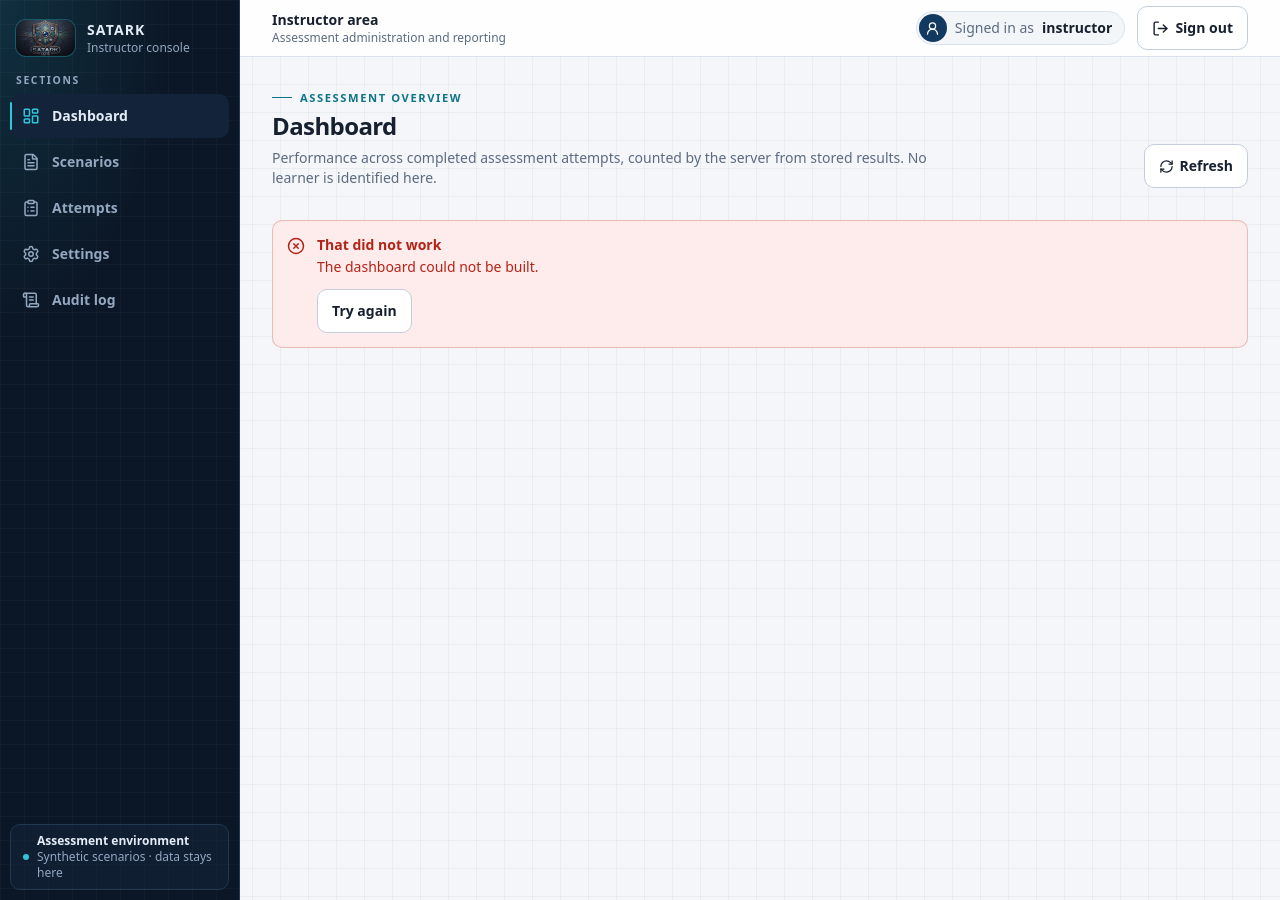
Test: little or no data › reports a server error with its own message and can retry
This screenshot has width=1280, height=900.
Check: the text "The dashboard could not be built." is shown, box x1=317 y1=257 x2=538 y2=277
Click the button "Try again" at (364, 311), box x1=317 y1=289 x2=412 y2=333
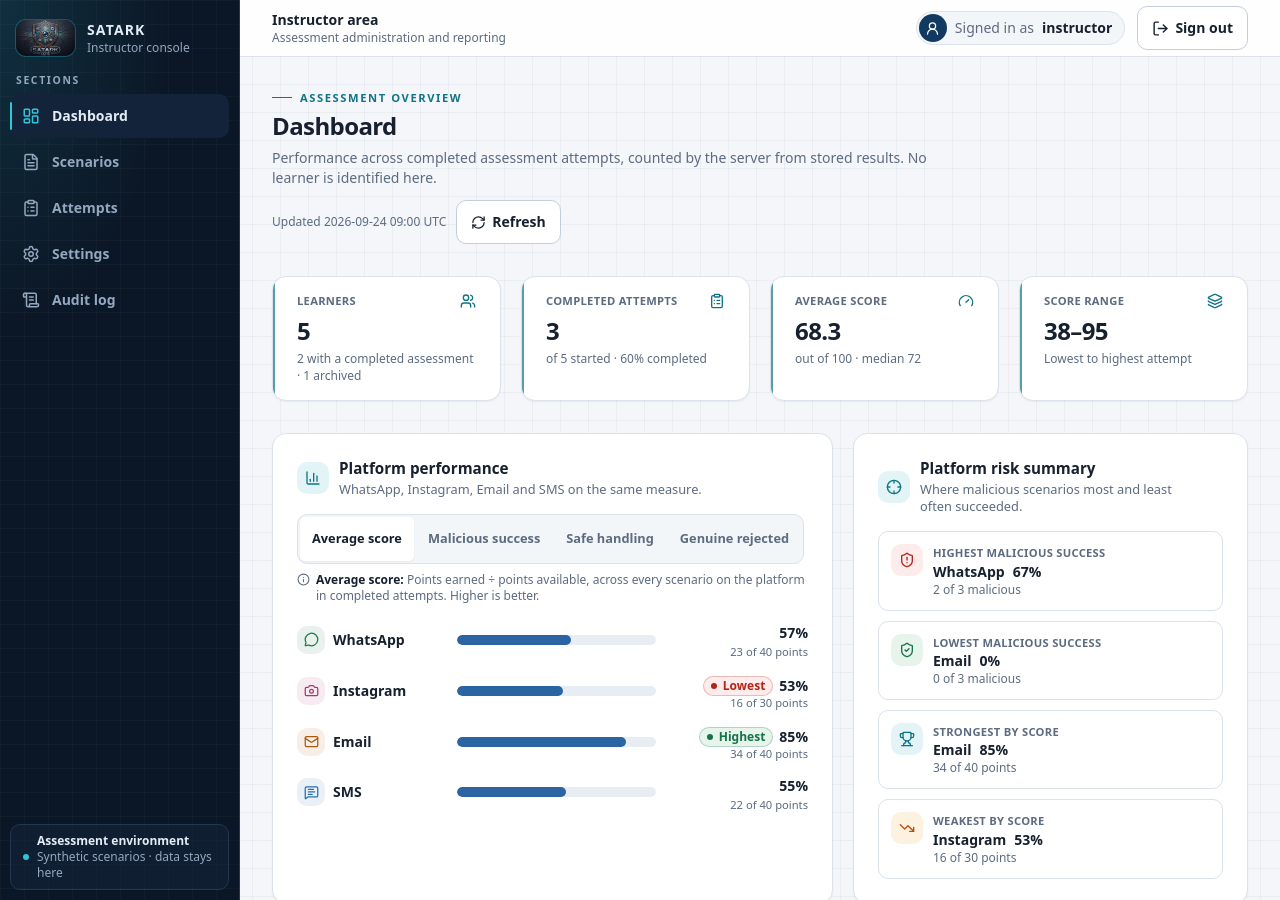
Check: the text "Highest malicious success" is shown, box x1=933 y1=544 x2=1106 y2=562
